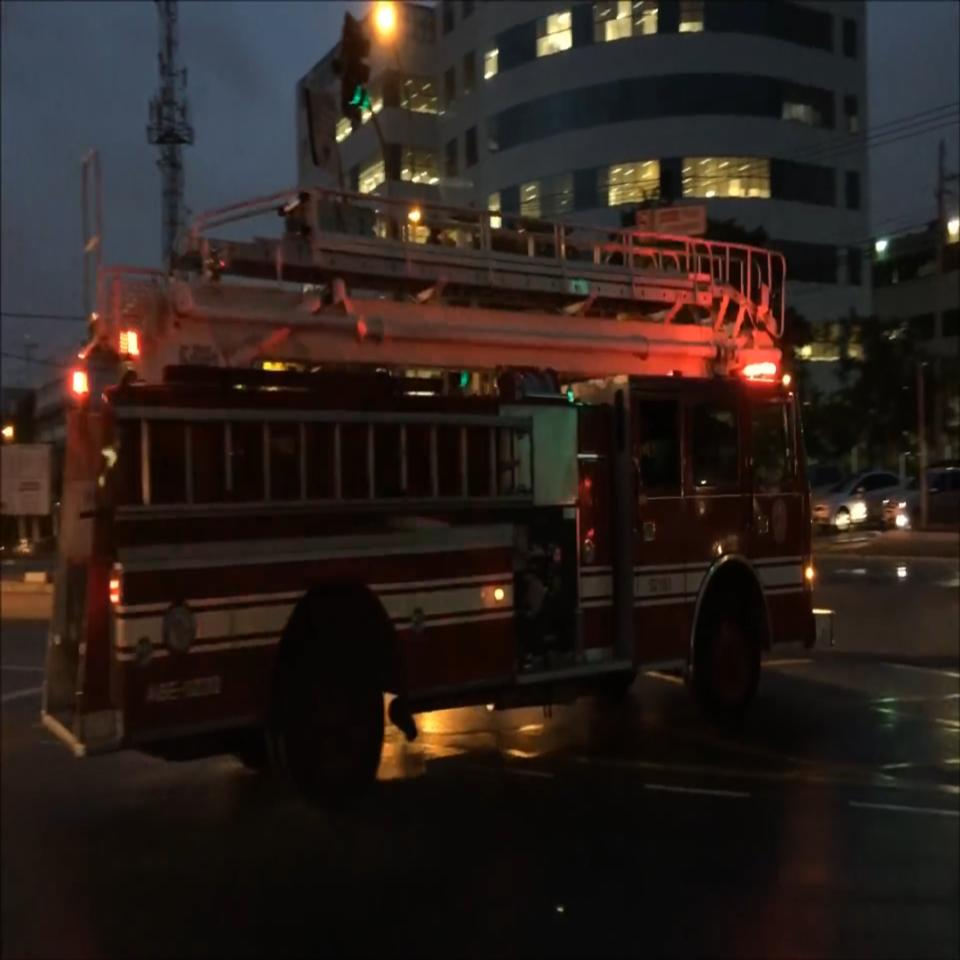viatura: (38, 191, 837, 802)
